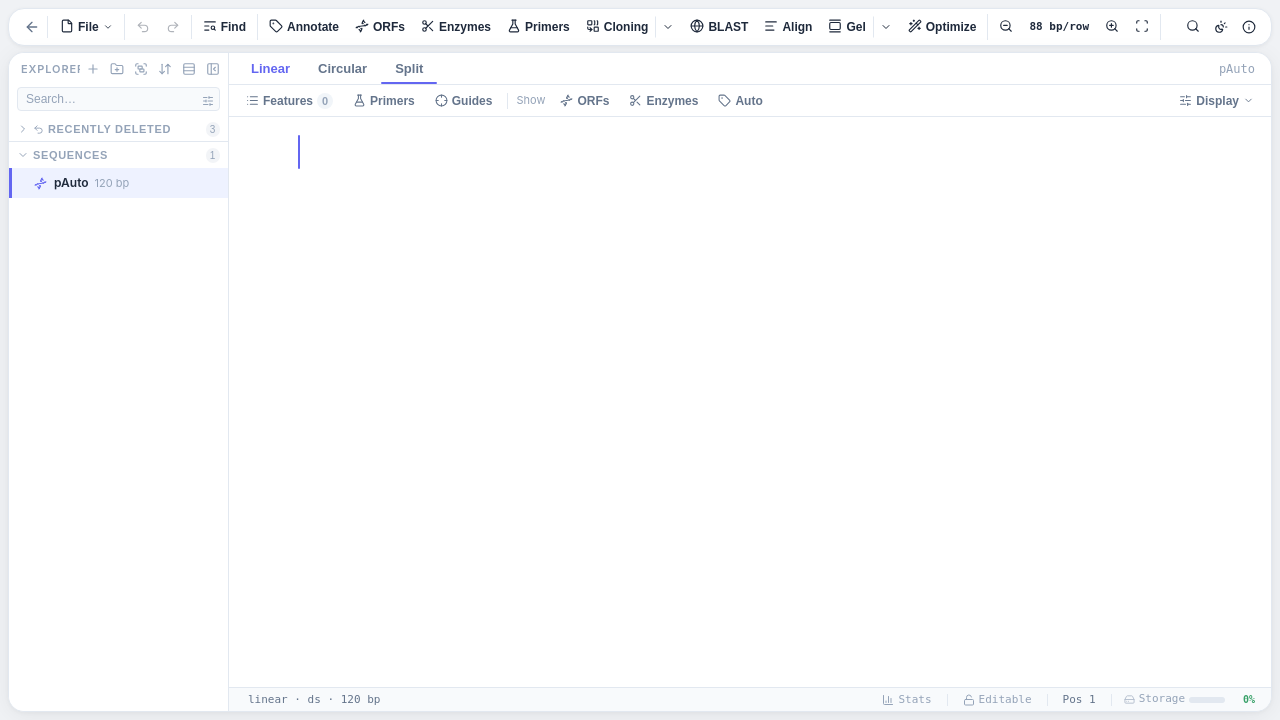
Test: auto-annotation in the panel bar › scans when switched on and offers to add what it found
This screenshot has width=1280, height=720.
Click the button "Auto" at (741,100), box [709, 90, 772, 112]
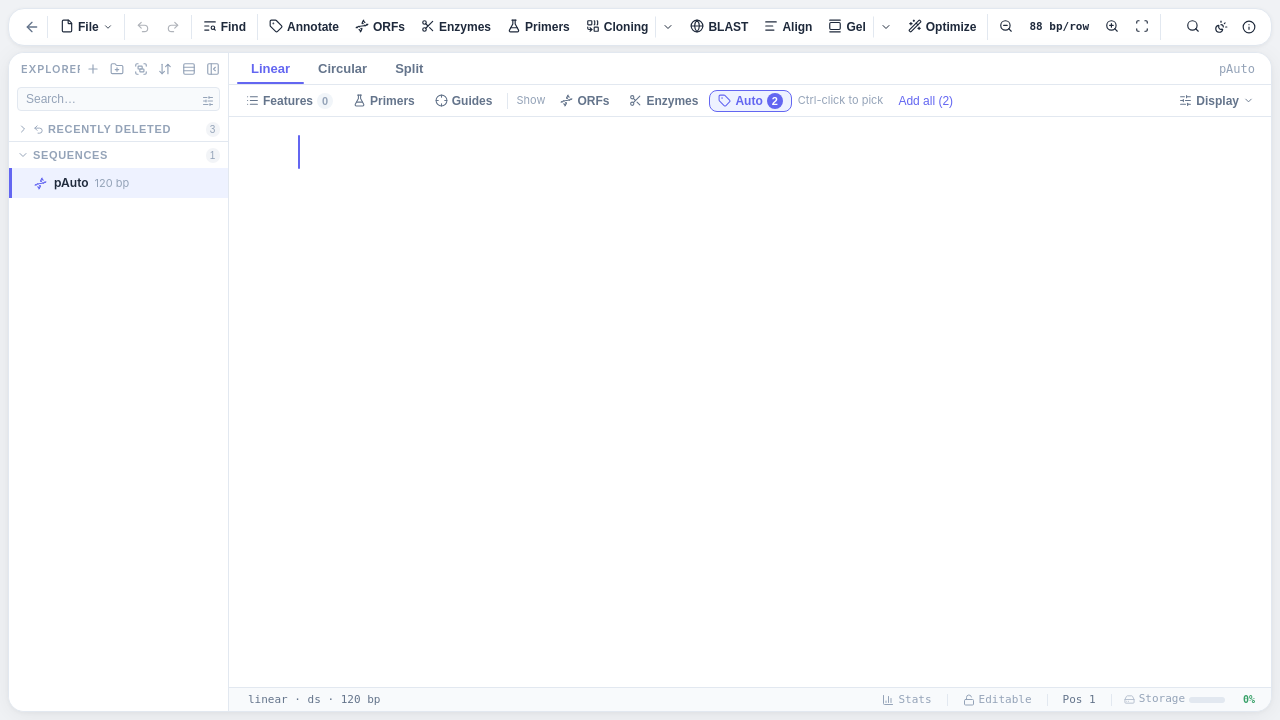
Expected: the button "Add all (2)" is shown, [889, 90, 962, 112]
